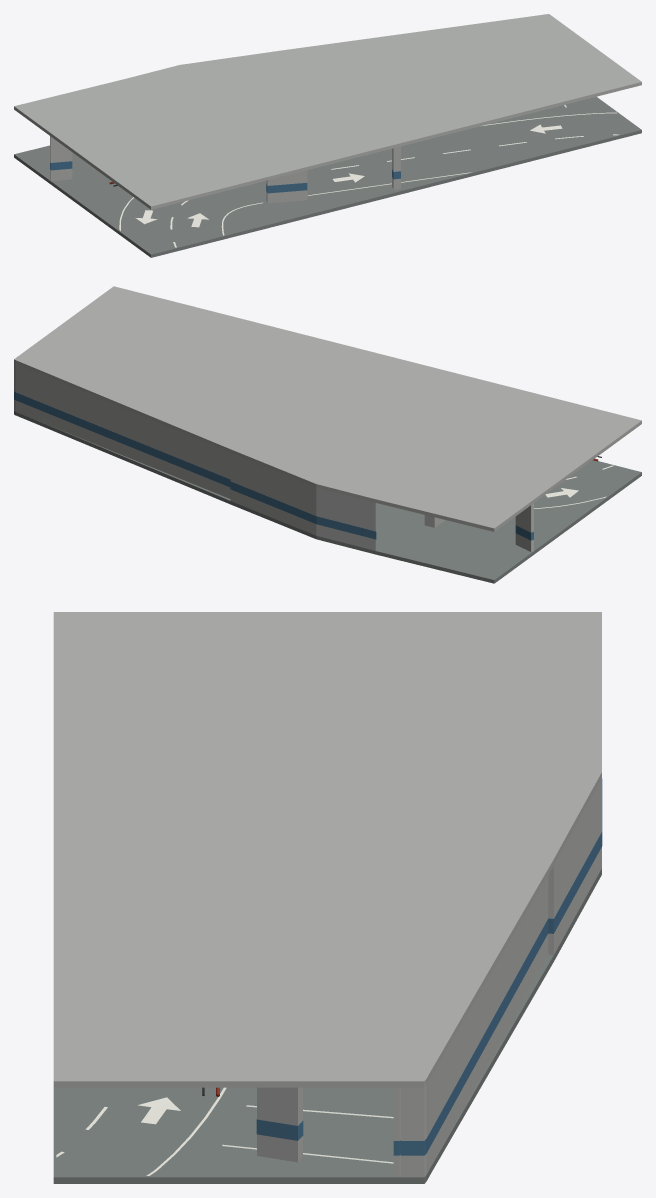
Rendered from B02-parking.glb.
3 renders of one model, top to bottom at view 1: azimuth 30°, elevation 25°; view 2: azimuth 150°, elevation 25°; view 3: azimuth 270°, elevation 25°, orthographic. The views are drawn at different scales.
Parts seen in each view (by area): view 1: Proposed | soffit above sector, SOURCE approximate sector | graded floor, SOURCE PDF clipped fill 4 part 0, SOURCE PDF clipped fill 20 part 4, PROPOSED TRAFFIC | source-two-way-aisle | arrow, PROPOSED TRAFFIC | source-two-way-aisle | edge; view 2: Proposed | soffit above sector, SOURCE approximate sector | graded floor, SOURCE PDF clipped fill 100 part 7, SOURCE PDF clipped fill 101 part 8, Proposed | identity paint 7, Proposed | identity paint 8, SOURCE PDF clipped fill 20 part 4, SOURCE PDF clipped fill 104 part 11; view 3: Proposed | soffit above sector, SOURCE approximate sector | graded floor, SOURCE PDF clipped fill 100 part 7, SOURCE PDF clipped fill 101 part 8, SOURCE PDF clipped fill 13 part 3, SOURCE PDF clipped fill 99 part 6, Proposed | identity paint 7, Proposed | identity paint 8.
Boxes of the visible parts, <box> form: Proposed | soffit above sector: <box>14,14,641,209</box>; SOURCE approximate sector | graded floor: <box>14,97,641,257</box>; SOURCE PDF clipped fill 4 part 0: <box>266,170,307,203</box>; SOURCE PDF clipped fill 20 part 4: <box>50,136,72,181</box>; PROPOSED TRAFFIC | source-two-way-aisle | arrow: <box>136,124,562,227</box>; PROPOSED TRAFFIC | source-two-way-aisle | edge: <box>119,112,616,235</box>; Proposed | soffit above sector: <box>14,286,641,531</box>; SOURCE approximate sector | graded floor: <box>14,411,641,583</box>; SOURCE PDF clipped fill 100 part 7: <box>15,364,230,498</box>; SOURCE PDF clipped fill 101 part 8: <box>230,453,362,547</box>; Proposed | identity paint 7: <box>15,392,230,487</box>; Proposed | identity paint 8: <box>230,481,362,535</box>; SOURCE PDF clipped fill 20 part 4: <box>515,503,533,551</box>; SOURCE PDF clipped fill 104 part 11: <box>362,499,375,550</box>; Proposed | soffit above sector: <box>53,612,601,1087</box>; SOURCE approximate sector | graded floor: <box>53,868,601,1183</box>; SOURCE PDF clipped fill 100 part 7: <box>426,876,548,1174</box>; SOURCE PDF clipped fill 101 part 8: <box>548,779,601,954</box>; SOURCE PDF clipped fill 13 part 3: <box>257,1087,302,1162</box>; SOURCE PDF clipped fill 99 part 6: <box>400,1086,426,1177</box>; Proposed | identity paint 7: <box>426,919,548,1153</box>; Proposed | identity paint 8: <box>548,791,602,933</box>.
Bounding box in the file's own units: 31.01 × 3.4 × 15.01.
